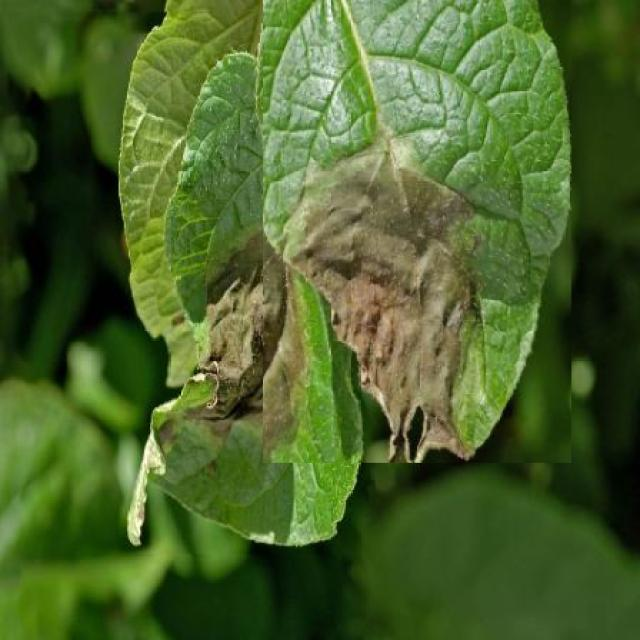Late Blight: (262, 1, 572, 463), (119, 43, 374, 554)
